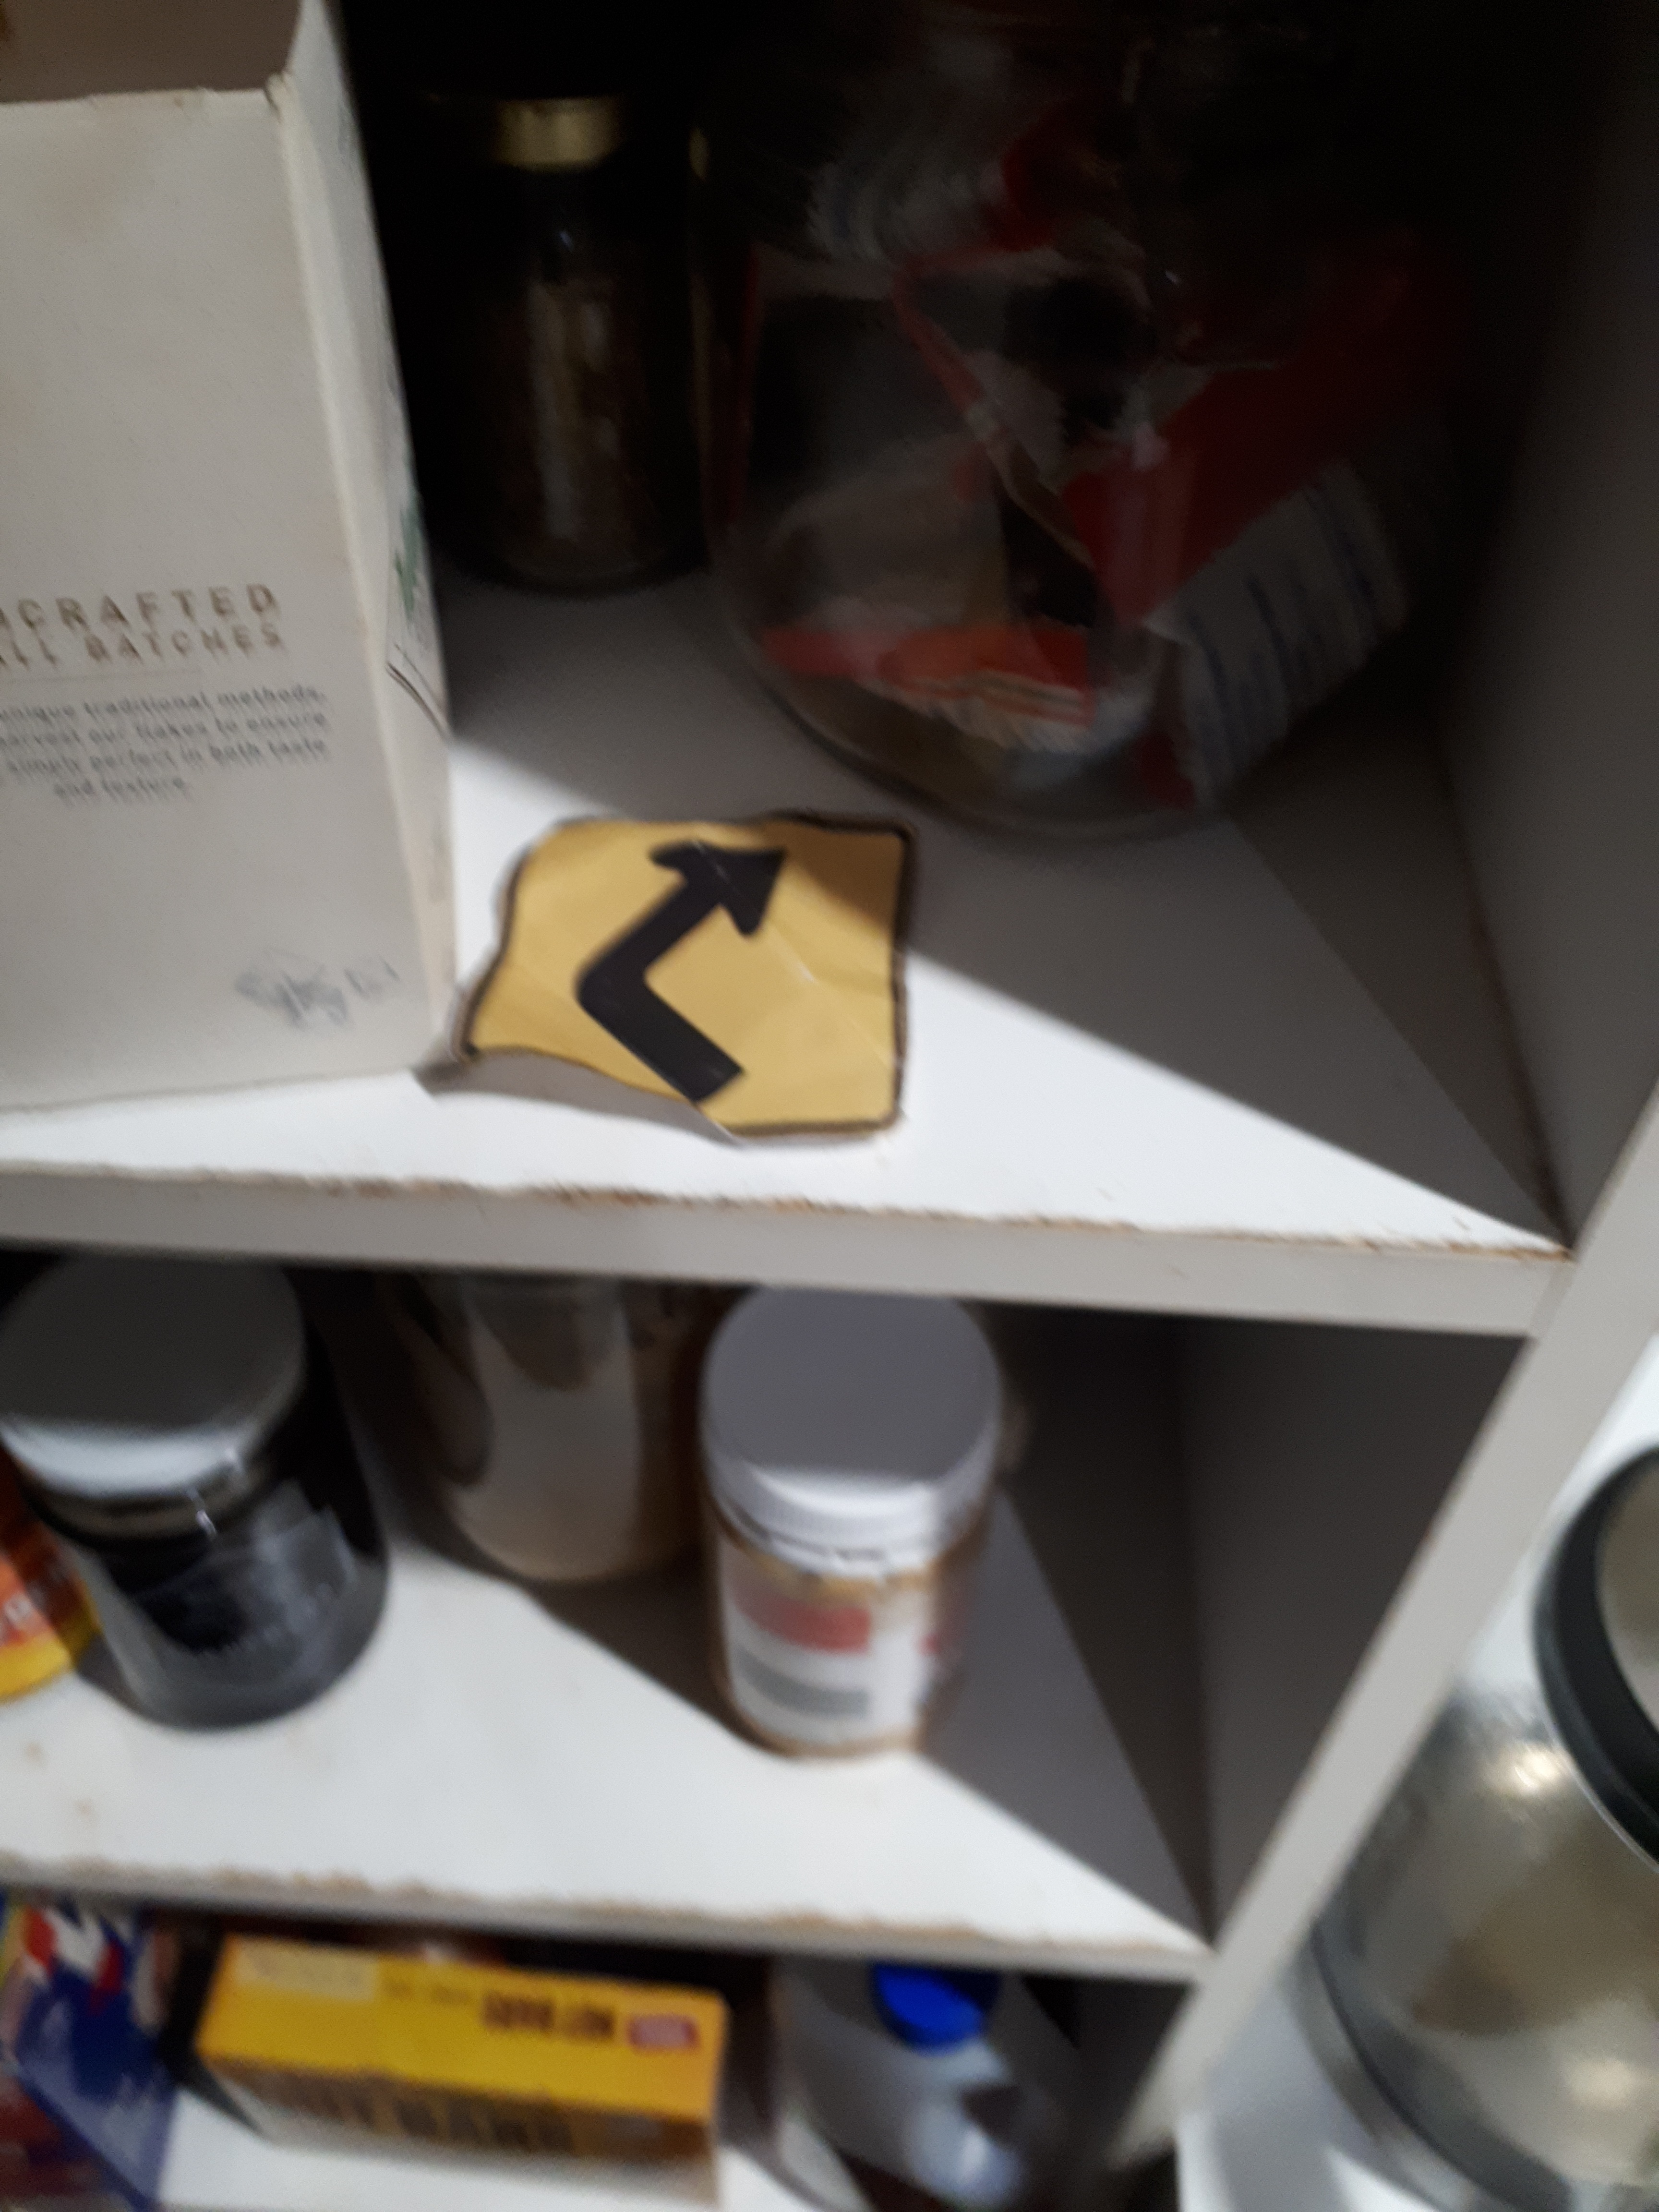right: (458, 784, 976, 1216), (497, 799, 866, 1160), (577, 826, 814, 1174), (608, 820, 802, 1061)
